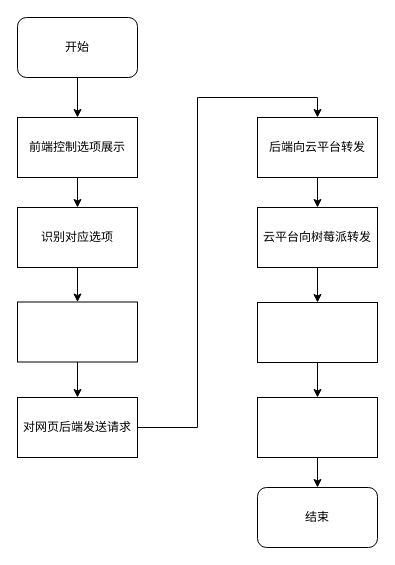
The diagram is 395 pixels wide and 565 high, and some of its shapes have lost their labels. The shapes that lost their labels are listed below. From the top down, each one's box as (x1, y1, x2, y2) in pixels, then its label:
(16, 301, 138, 362): 执行控制请求方法
(256, 302, 378, 362): 树莓派获取命令并解析
(256, 396, 378, 458): 执行对应控制操作
